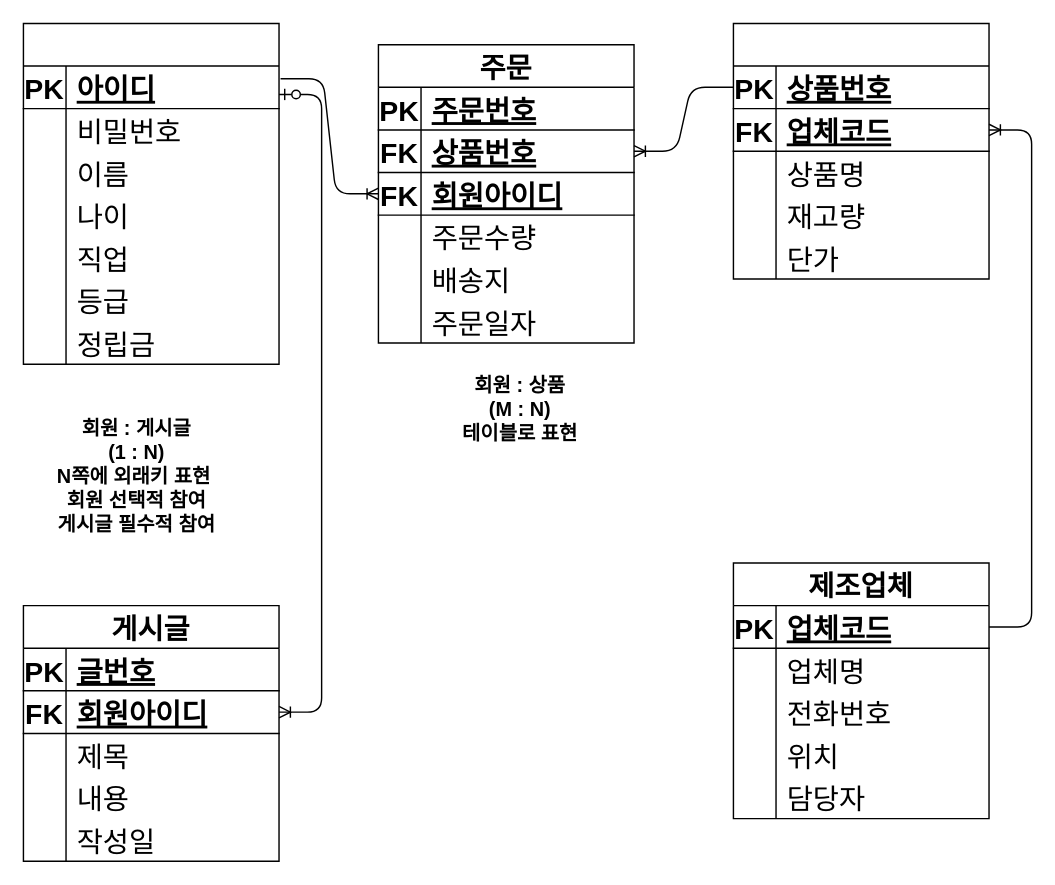
Some shapes in this 1055 by 885 pixel diagram are drawn without their labels. Here are the shapes that lost their labels. From the top down, the box of each, then its label:
(732, 22, 989, 279): 상품
(22, 22, 279, 364): 회원
